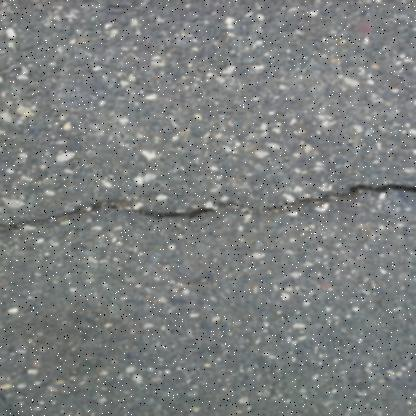Cracks: (0, 177, 416, 235)
